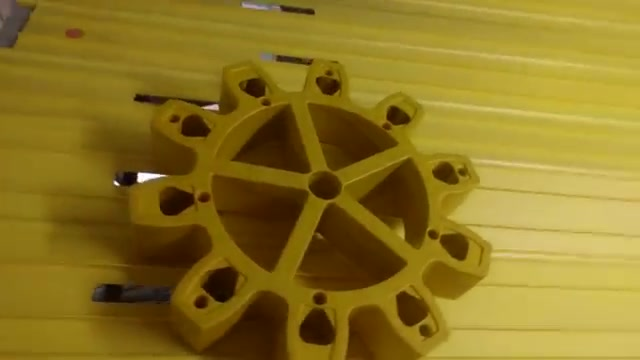gear: (120, 47, 506, 358)
